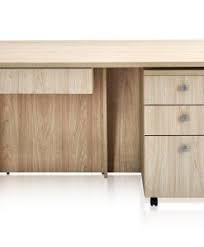desk: (0, 26, 204, 220)
